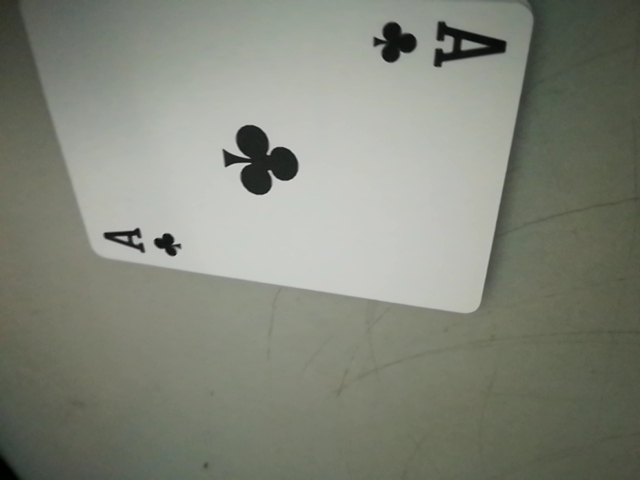mh a: (369, 10, 506, 76), (97, 219, 191, 261)
